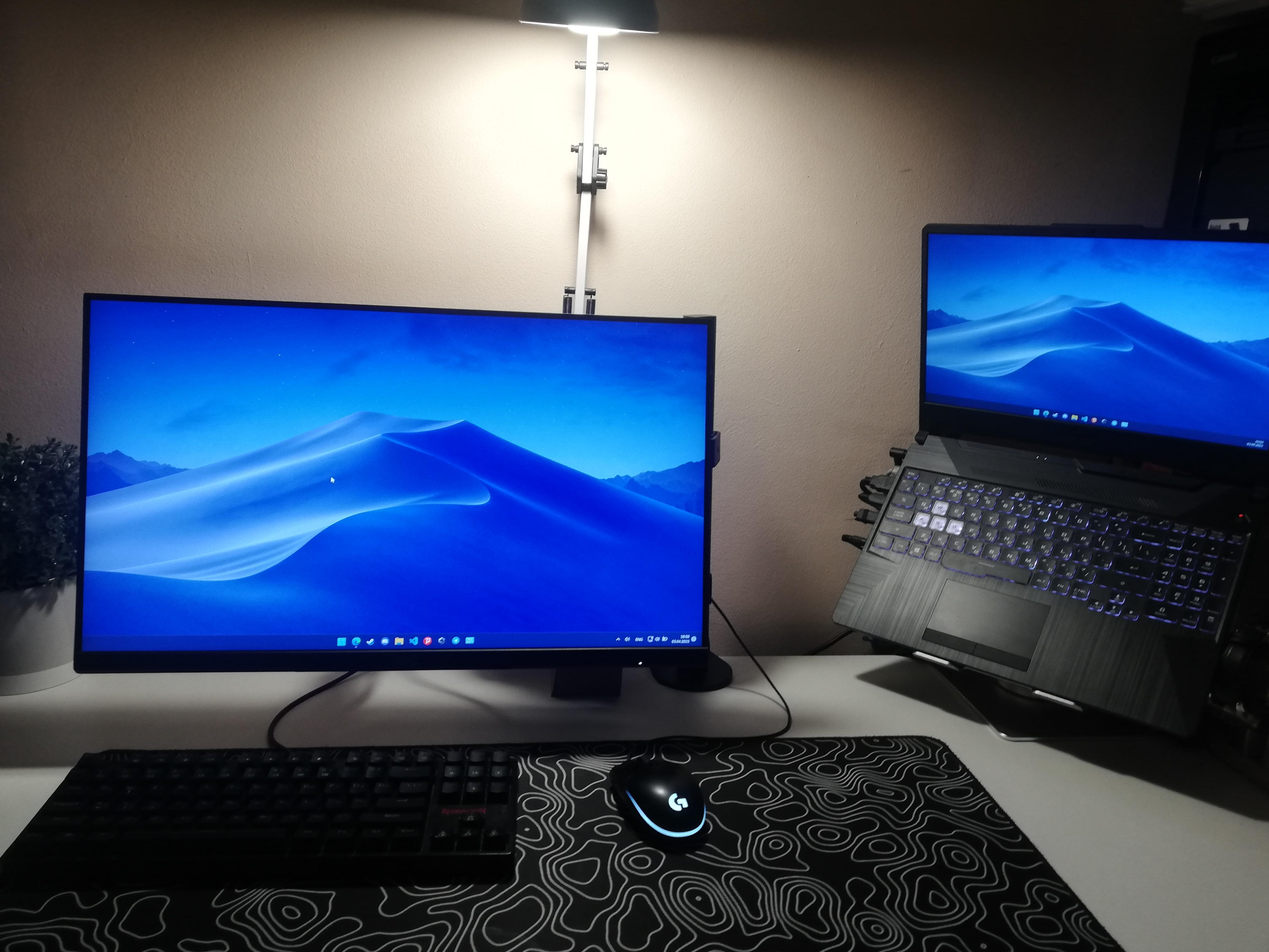monitor: (73, 291, 716, 673), (918, 221, 1269, 491)
